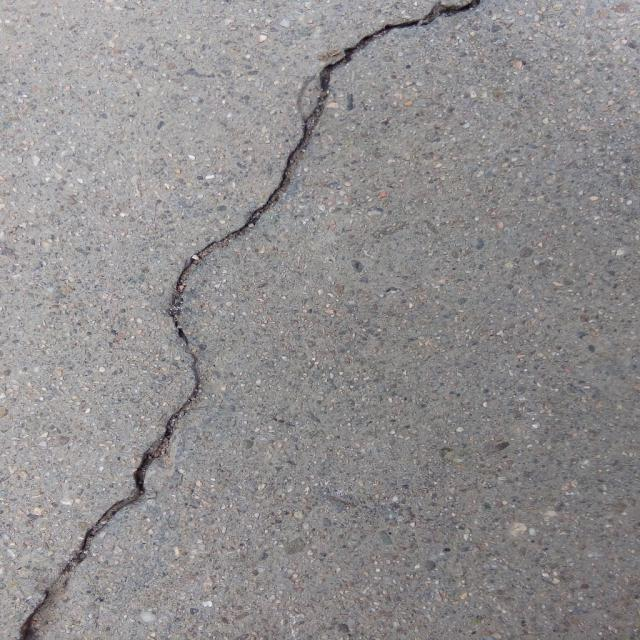cracks: (19, 4, 511, 640)
